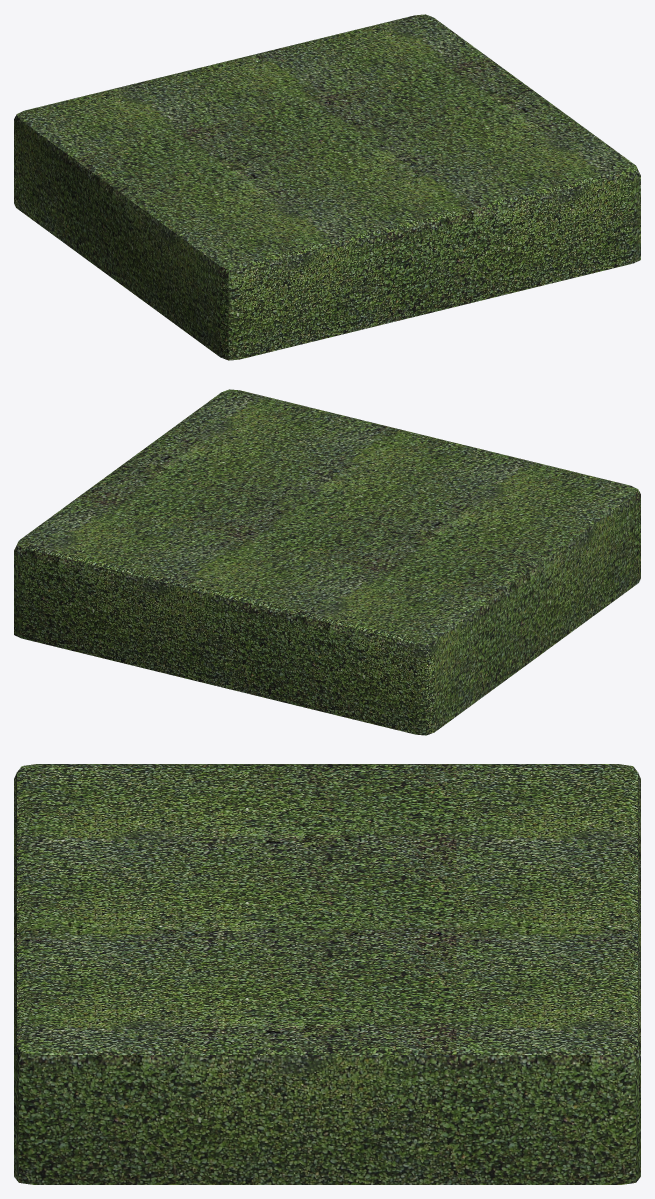
Rendered from Bush_002.FBX.
3 renders of one model, top to bottom at view 1: azimuth 30°, elevation 25°; view 2: azimuth 150°, elevation 25°; view 3: azimuth 270°, elevation 25°, orthographic. The views are drawn at different scales.
Parts seen in each view (by area): view 1: Bush_002; view 2: Bush_002; view 3: Bush_002.
Boxes of the visible parts, x1,y1,x2,y2 form: Bush_002: [14, 14, 640, 360]; Bush_002: [14, 389, 640, 735]; Bush_002: [14, 764, 640, 1184].
Bounding box in the file's own units: 1078 × 225 × 973.
